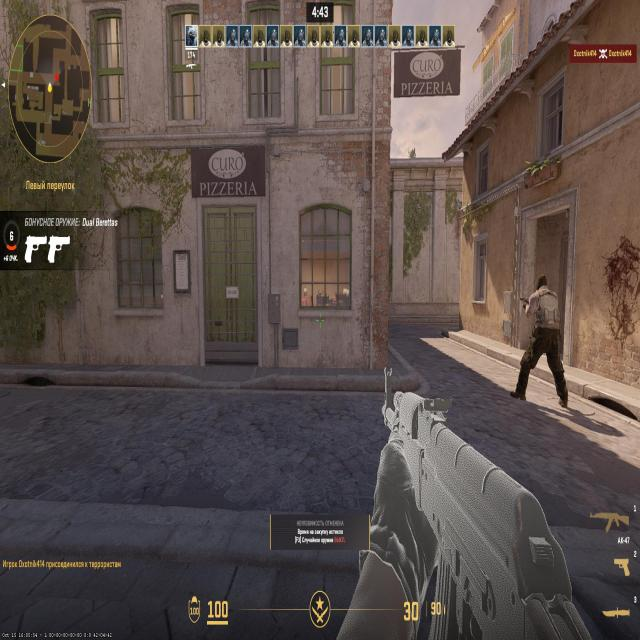T: (534, 278, 558, 360)
T_heat: (538, 281, 547, 301)
